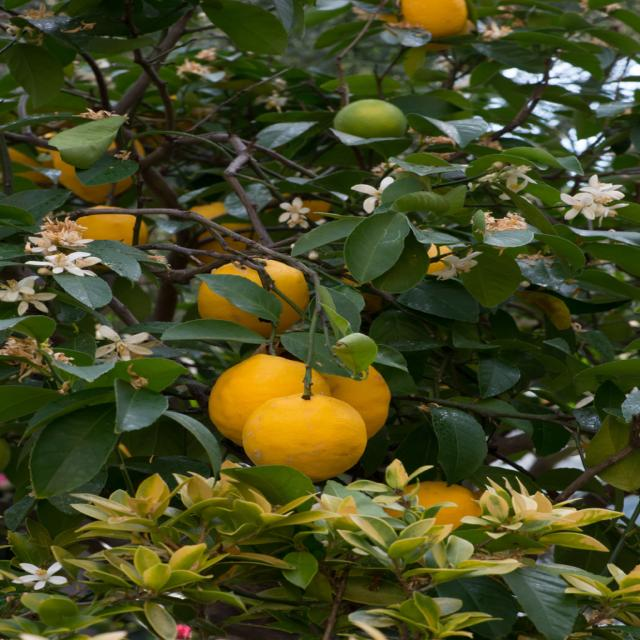Lemon: (240, 396, 368, 484), (208, 352, 324, 443), (192, 254, 311, 340), (373, 478, 487, 552), (50, 130, 138, 205), (316, 359, 390, 438), (61, 205, 146, 261), (174, 198, 250, 258), (270, 192, 338, 247), (401, 236, 467, 282), (396, 0, 468, 42), (0, 139, 52, 192)
